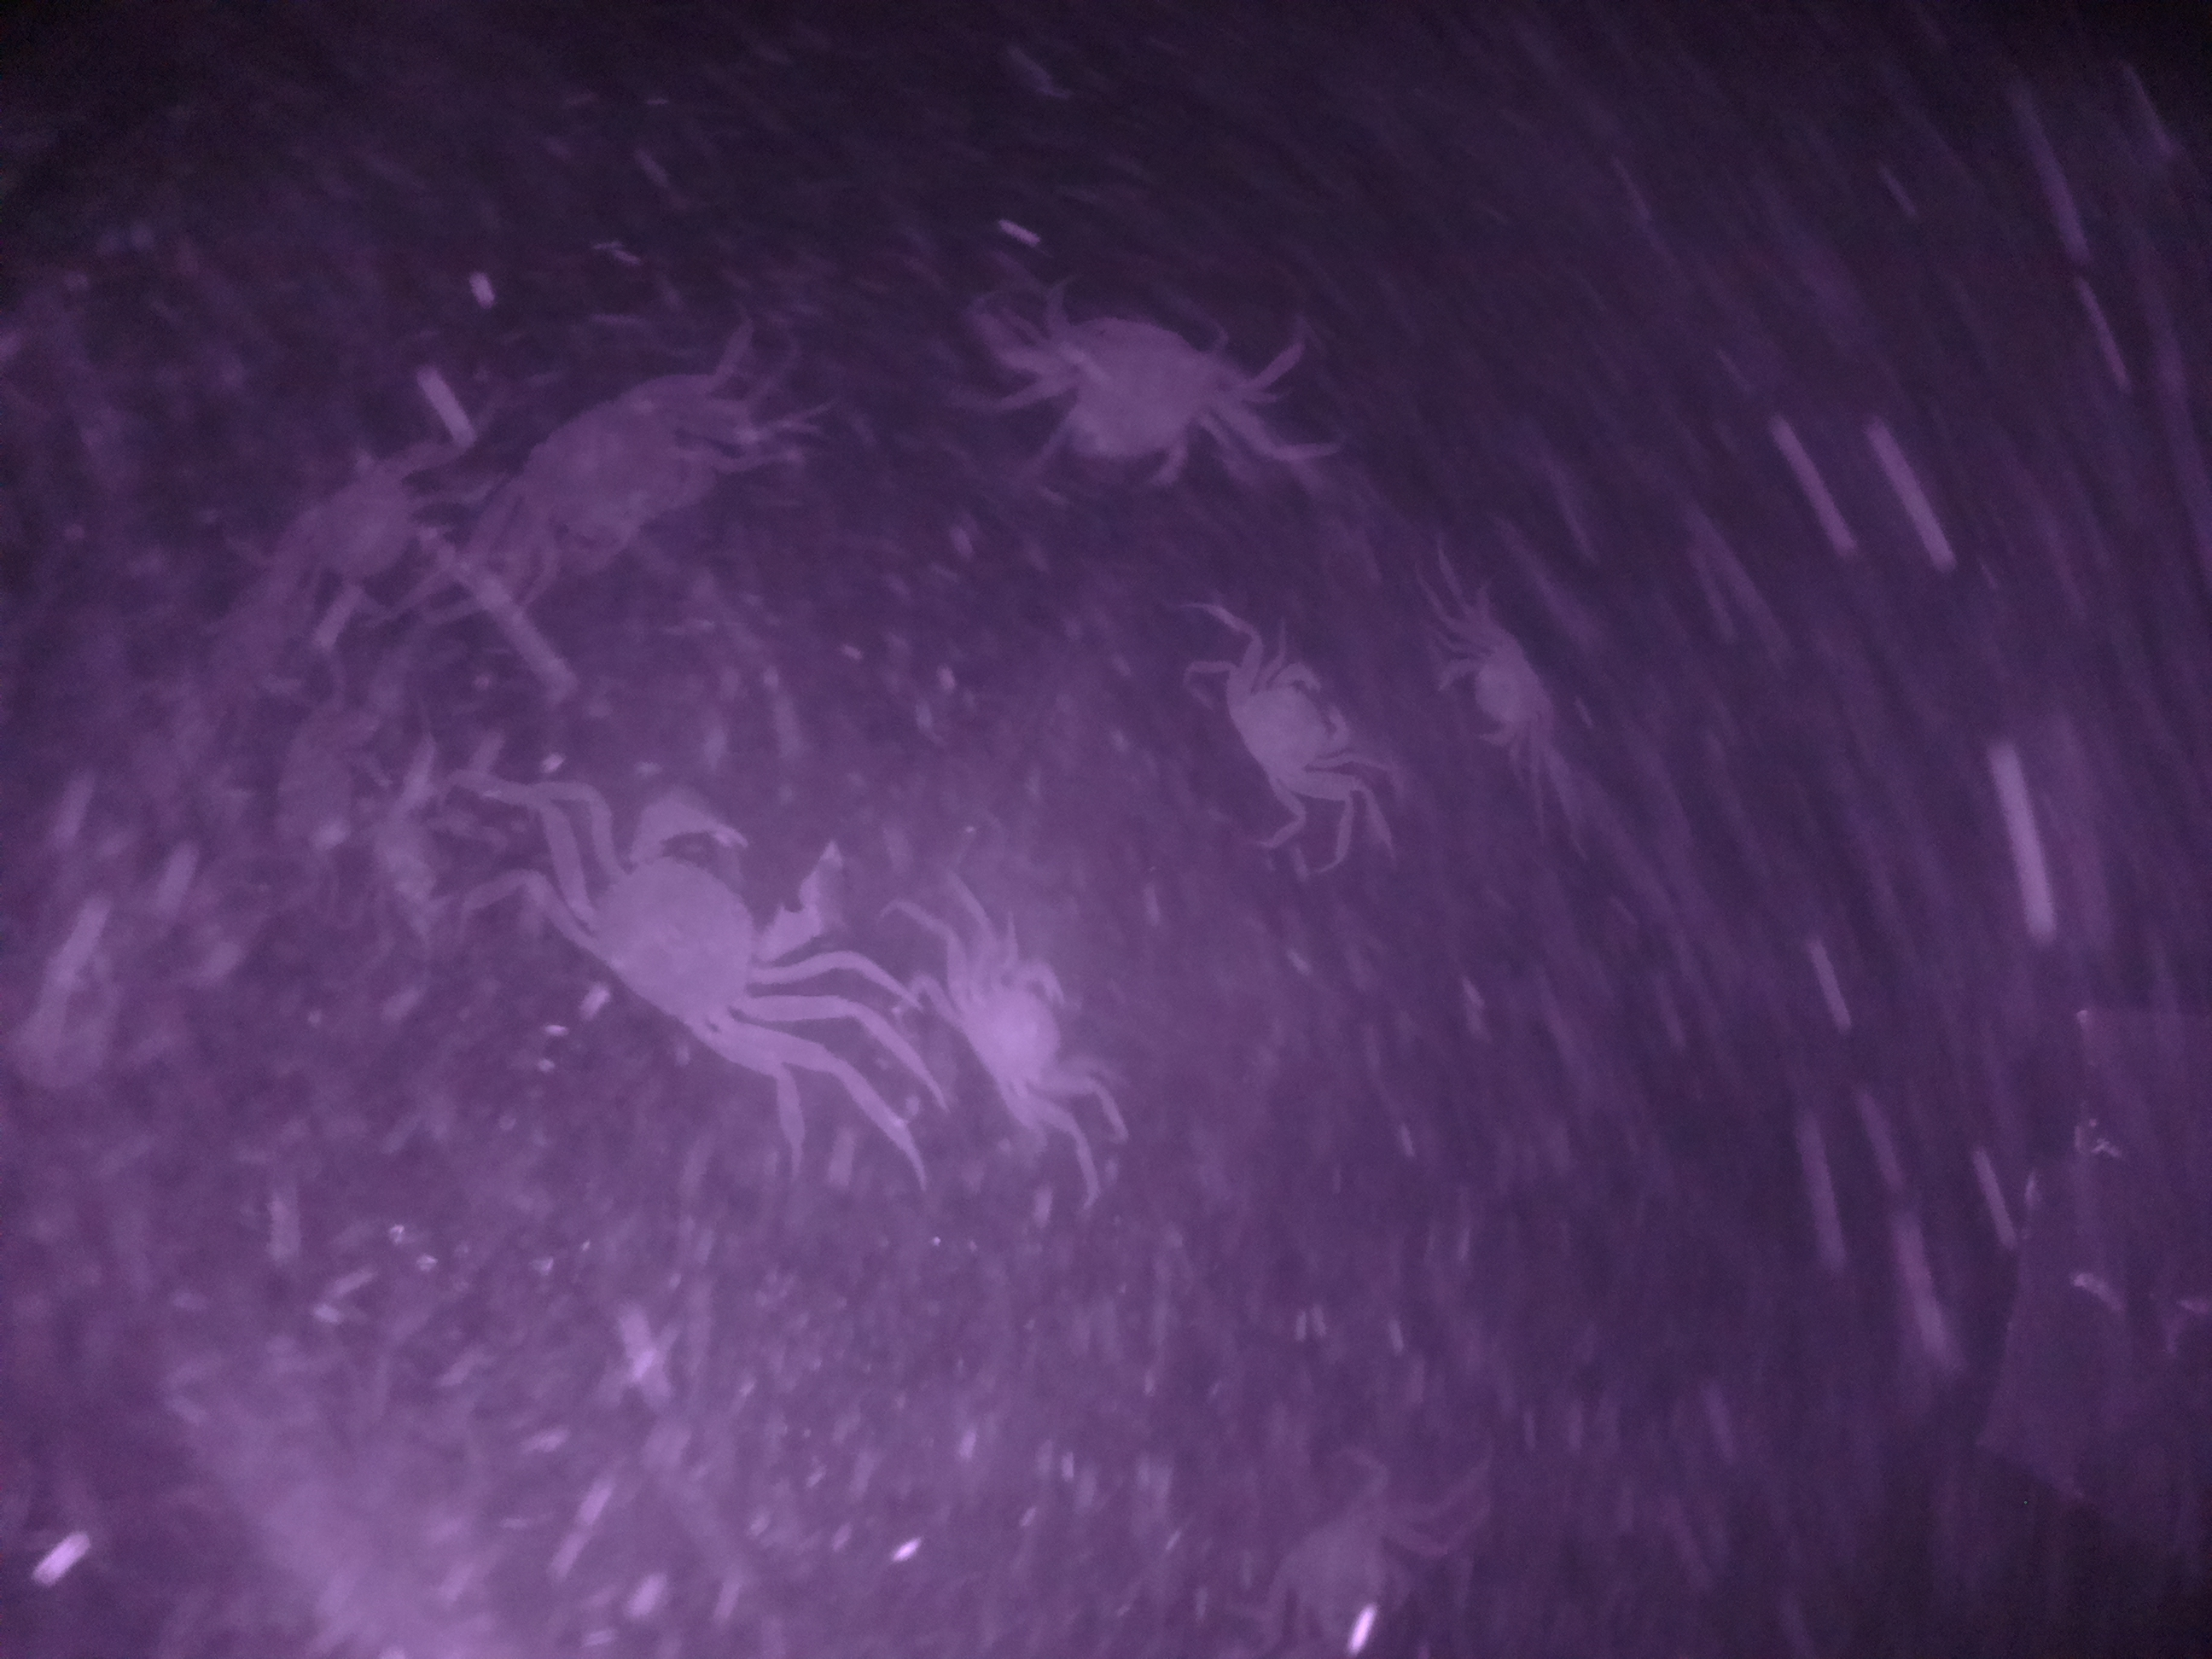Crab: (1014, 282, 1237, 495), (941, 929, 1120, 1115), (1214, 641, 1357, 829), (1432, 608, 1575, 763)
